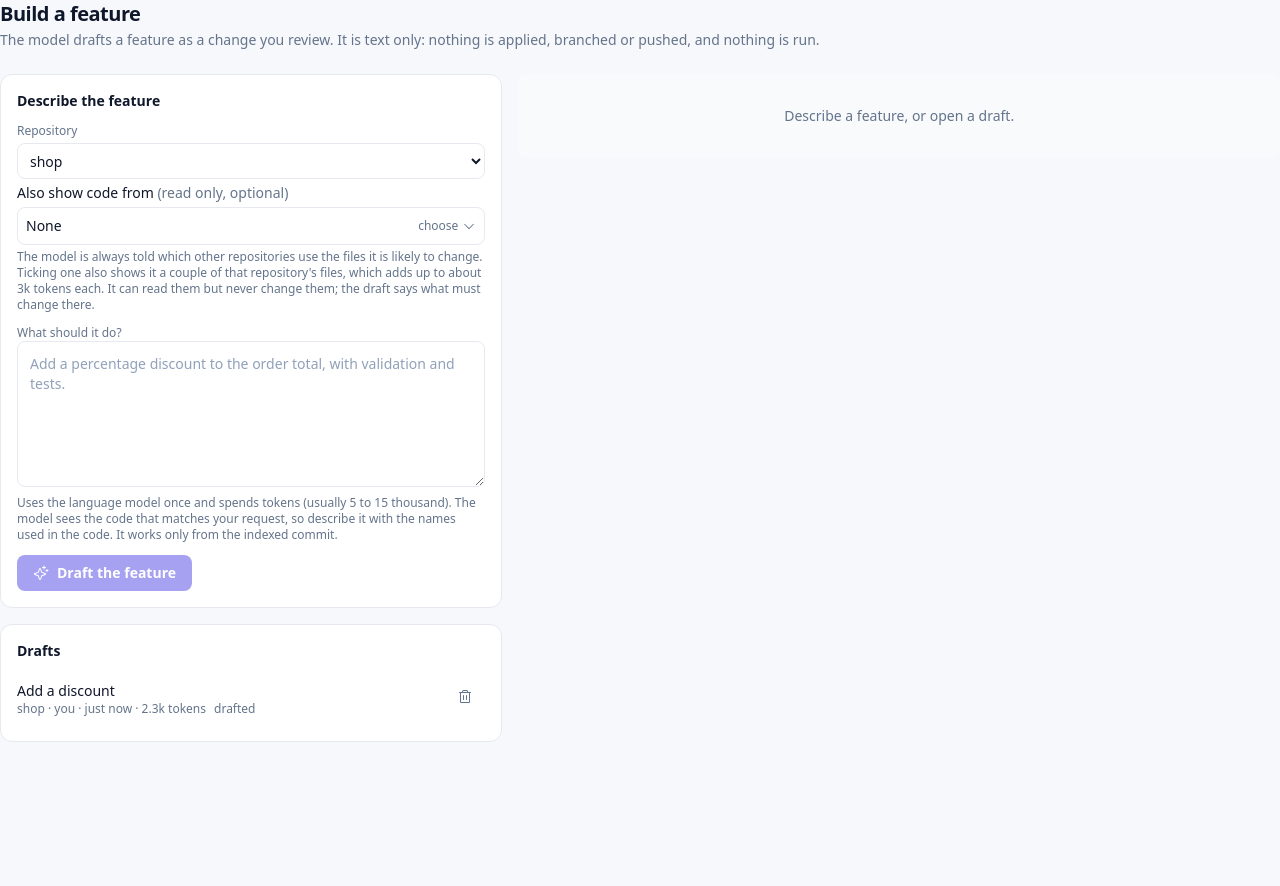
Test: Build a feature › offers only indexed code repositories, and sends the request for a draft
The width and height of the screenshot is (1280, 886).
Expected: the button "Draft the feature" is disabled, [17,555,192,591]
Step 1. Type "Add a discount to the order total" into the text box named "What should it do?" → (251, 414), box [17,341,485,487]
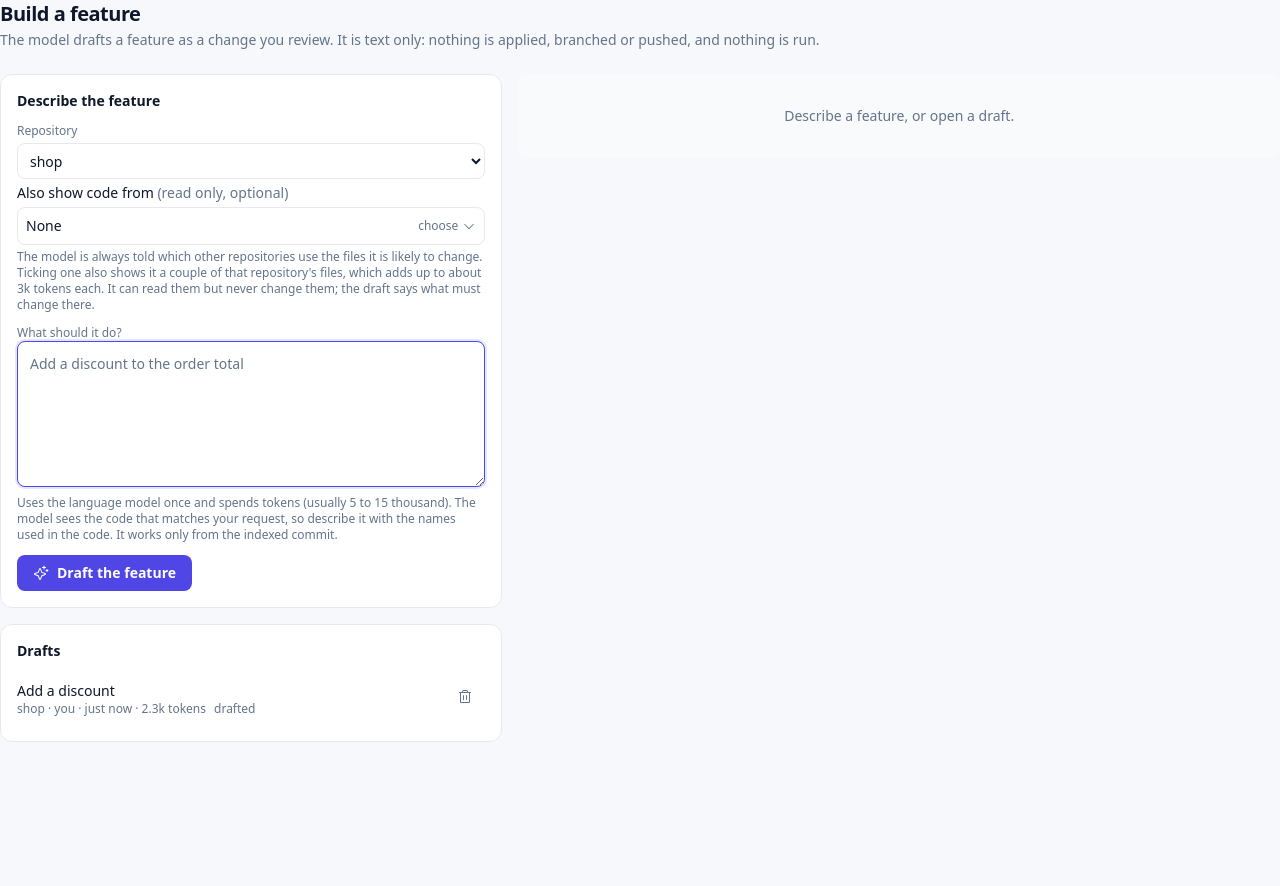
Step 2. Click the button "Draft the feature" → (104, 573), box [17,555,192,591]
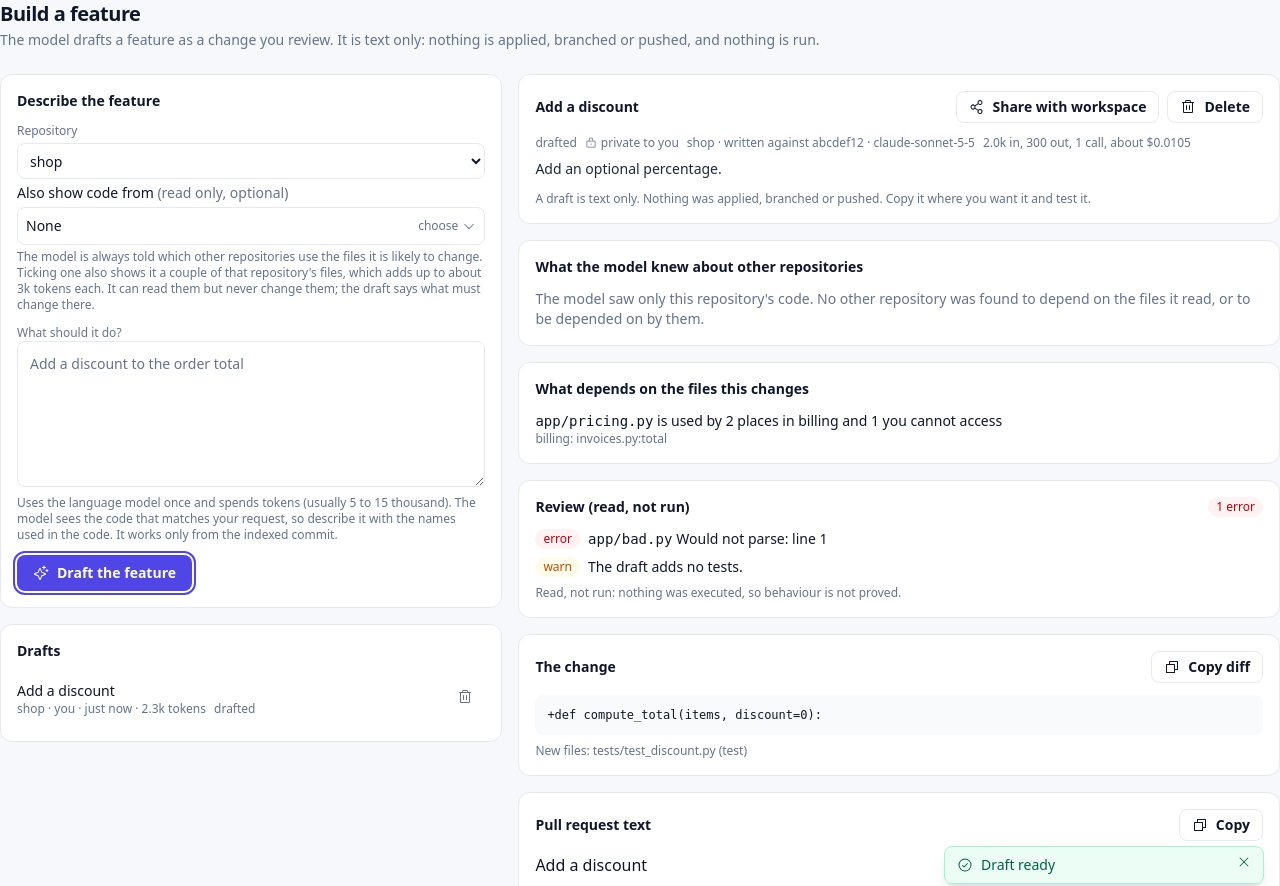
Expected: the text named "Tokens used" reads "2.0k in, 300 out, 1 call, about $0.0105", [983,135,1191,151]
